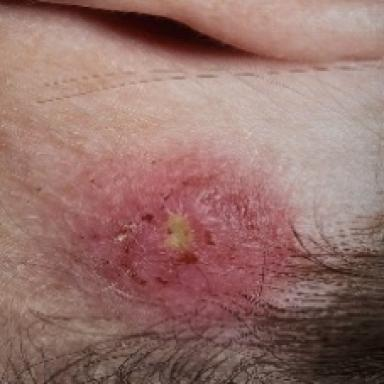Impetigo: (68, 147, 300, 324)
